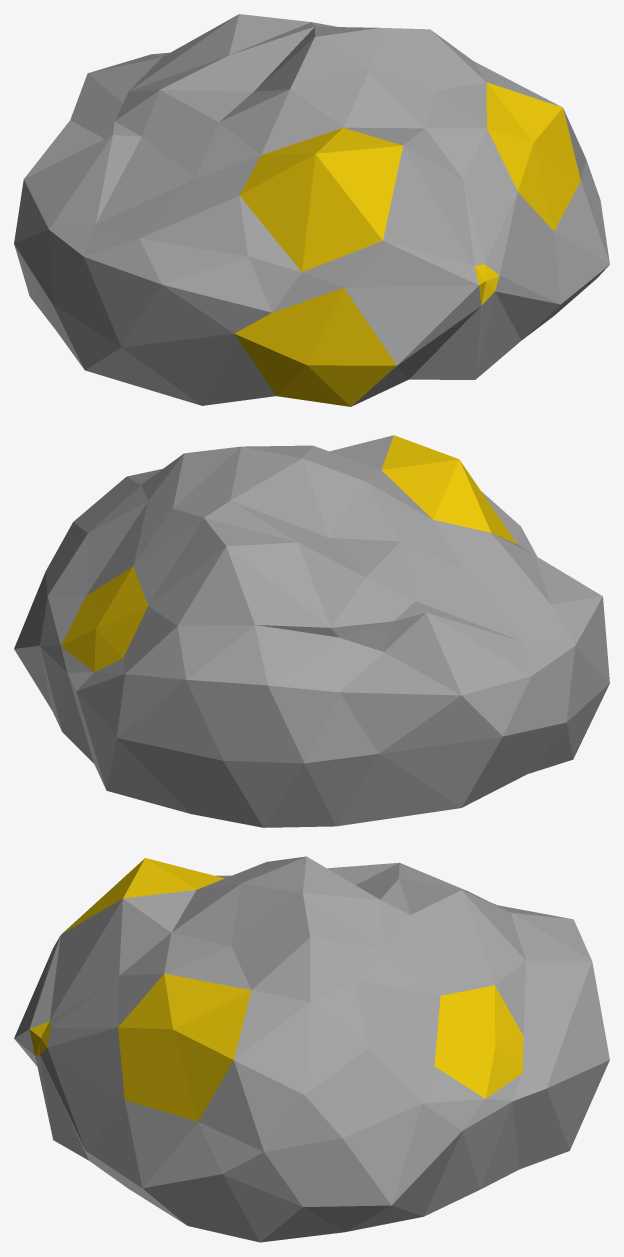
File: Erz_1.fbx
3 views of the same model, one above another, from view 1: azimuth 30°, elevation 25°; view 2: azimuth 150°, elevation 25°; view 3: azimuth 270°, elevation 25° (orthographic). The views are drawn at different scales.
Visible parts, largest first — view 1: Erz_1; view 2: Erz_1; view 3: Erz_1.
Part boxes in pixels (x1,y1,x2,y2): Erz_1: [14, 14, 609, 406]; Erz_1: [14, 435, 609, 827]; Erz_1: [14, 856, 609, 1242].
Bounding box in the file's own units: 250 × 124 × 244.
